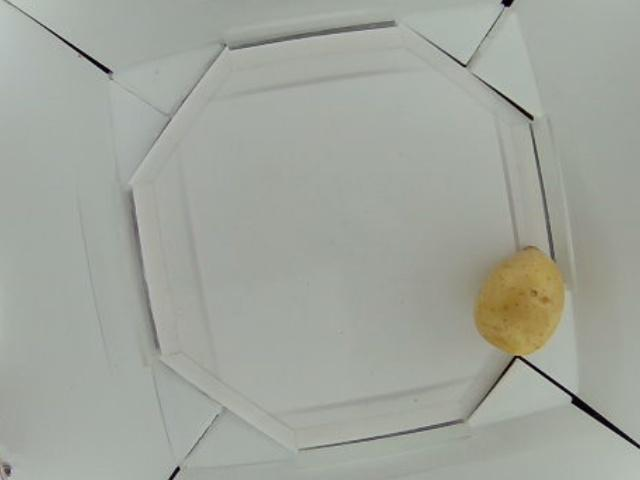Potato: (479, 245, 564, 350)
